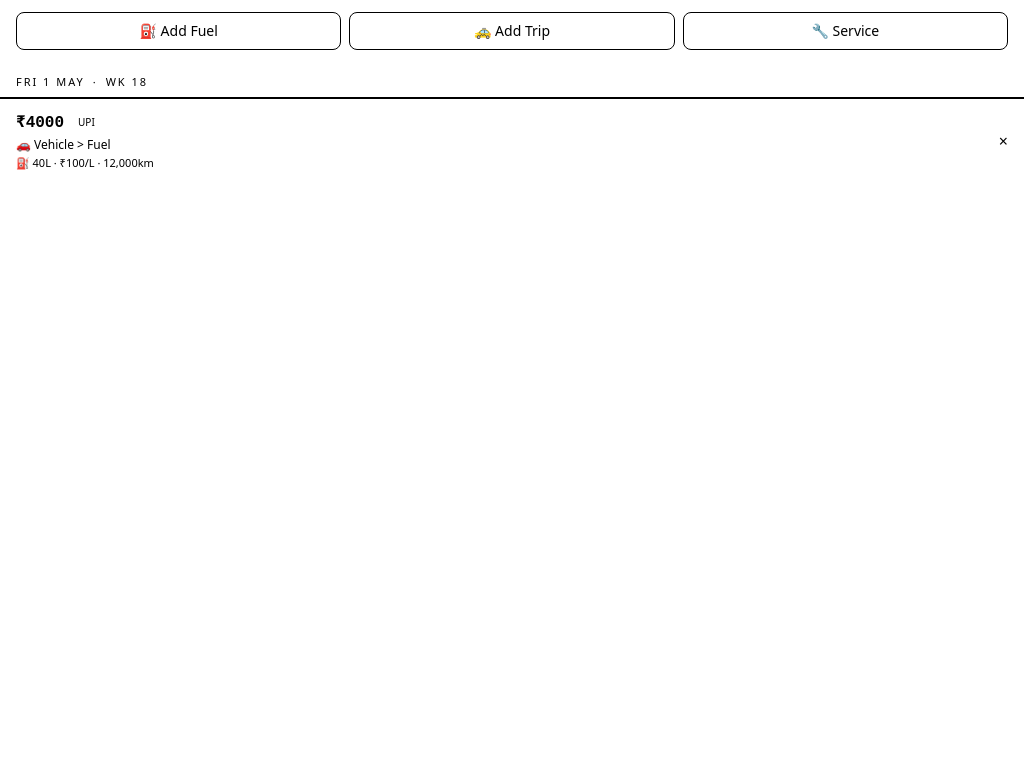
Test: AutoTab — tap-to-edit › tapping a row populates the form and switches button to "Update"
The width and height of the screenshot is (1024, 780).
Step 1. Click the text "⛽ 40L · ₹100/L · 12,000km" → (85, 163), box [16, 154, 154, 171]
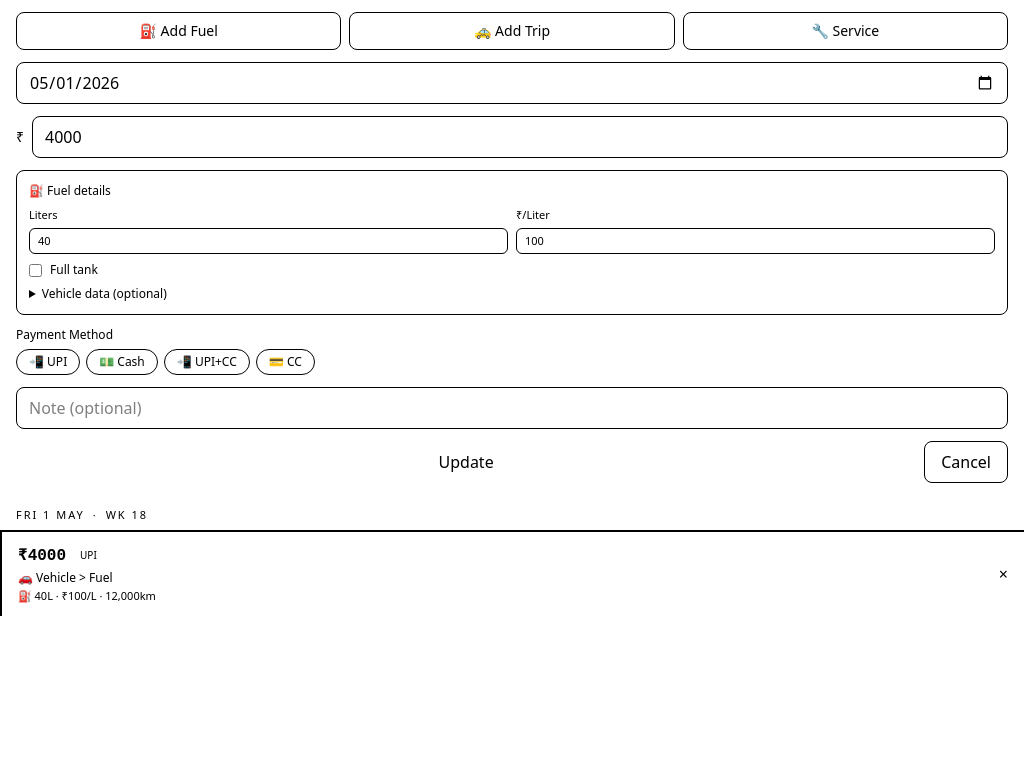
Now the text "⛽ Fuel details" is shown, box [29, 182, 111, 199]
Now the button "Update" is shown, box [16, 441, 916, 483]
